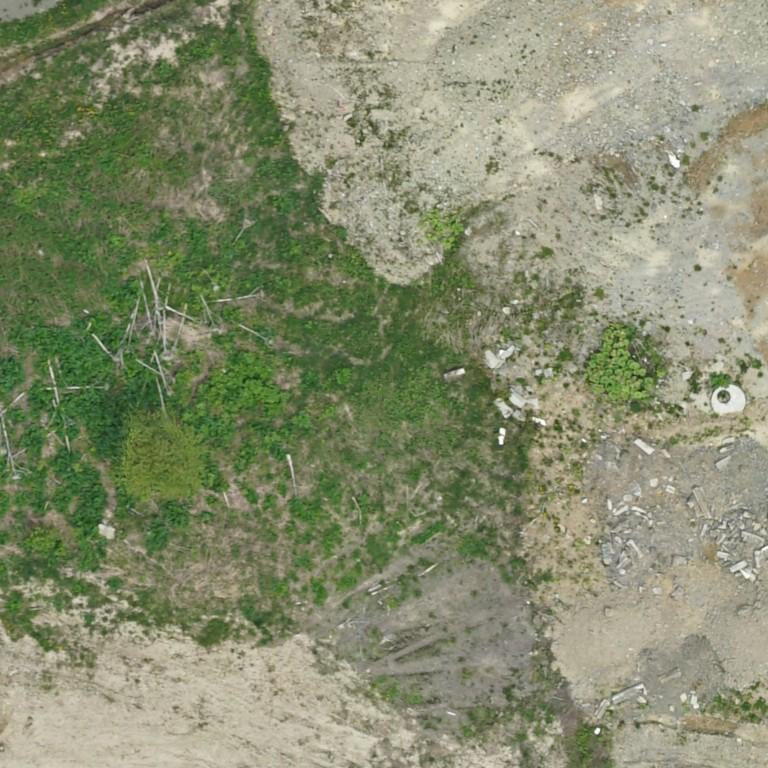hogweed: (30, 354, 160, 456), (180, 326, 292, 442), (15, 325, 115, 387), (54, 450, 106, 569), (249, 421, 294, 460), (88, 312, 122, 349), (234, 441, 258, 471), (206, 459, 228, 491), (147, 517, 168, 550), (166, 501, 192, 526), (291, 499, 319, 520), (116, 488, 131, 515), (332, 368, 353, 385), (292, 411, 311, 428), (111, 577, 123, 587)
